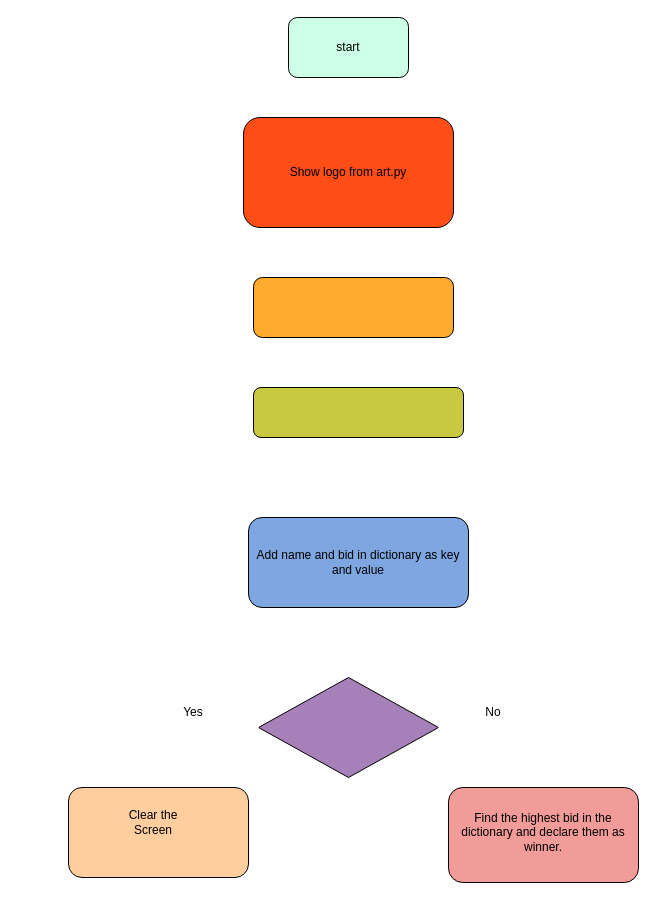
The diagram is 656 pixels wide and 923 high, and some of its shapes have lost their labels. Here are the shapes that lost their labels. From the top down, the centre of each, then its label:
the point at 353,307: Ask for name
the point at 358,412: Ask for bid
the point at 348,727: Ask if there are other users who want to bid
